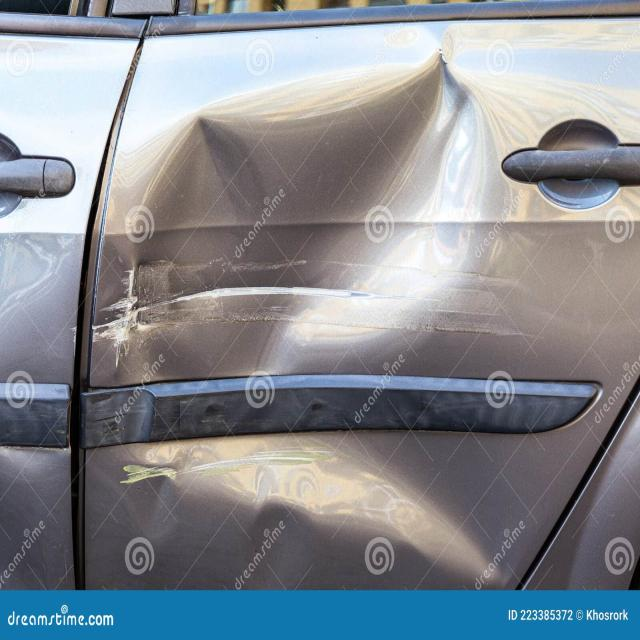dent: (81, 24, 605, 593)
misalignment: (71, 26, 148, 589)
scratch: (89, 252, 545, 369), (120, 451, 335, 486), (69, 325, 77, 359)
